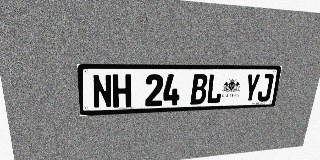2: (145, 74, 163, 106)
4: (163, 74, 181, 106)
B: (190, 74, 208, 104)
H: (112, 74, 131, 108)
J: (256, 74, 274, 102)
L: (206, 74, 224, 104)
N: (92, 74, 112, 109)
Y: (243, 74, 261, 102)
